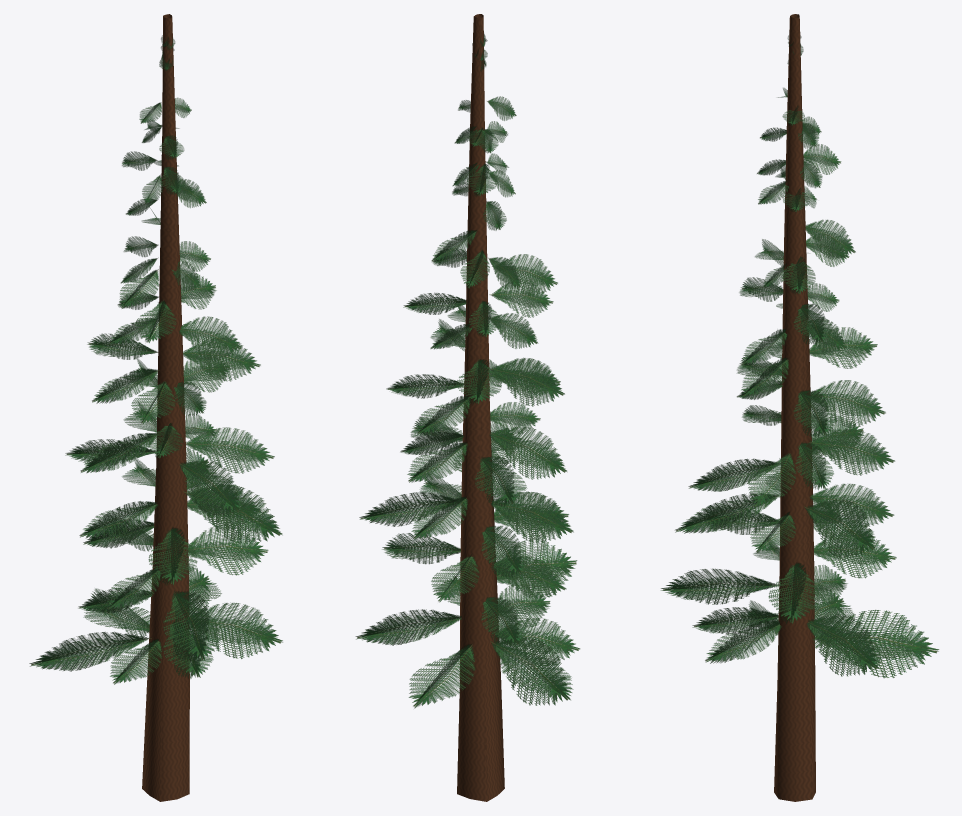
File: pacific-redwood-lod.glb
3 renders of one model, left to right at view 1: azimuth 30°, elevation 25°; view 2: azimuth 150°, elevation 25°; view 3: azimuth 270°, elevation 25°, orthographic.
Parts seen in each view (by area): view 1: Redwood needle cards, Redwood ridged bark; view 2: Redwood needle cards, Redwood ridged bark; view 3: Redwood needle cards, Redwood ridged bark.
Boxes of the visible parts, box(x1,y1,x2,y2) form: Redwood needle cards: box(29, 35, 282, 684); Redwood ridged bark: box(142, 14, 189, 801); Redwood needle cards: box(355, 34, 580, 708); Redwood ridged bark: box(457, 14, 504, 801); Redwood needle cards: box(660, 35, 938, 678); Redwood ridged bark: box(774, 14, 815, 801).
Bounding box in the file's own units: 8.41 × 25 × 8.92.
Materials: 2 (2 with a texture image).
